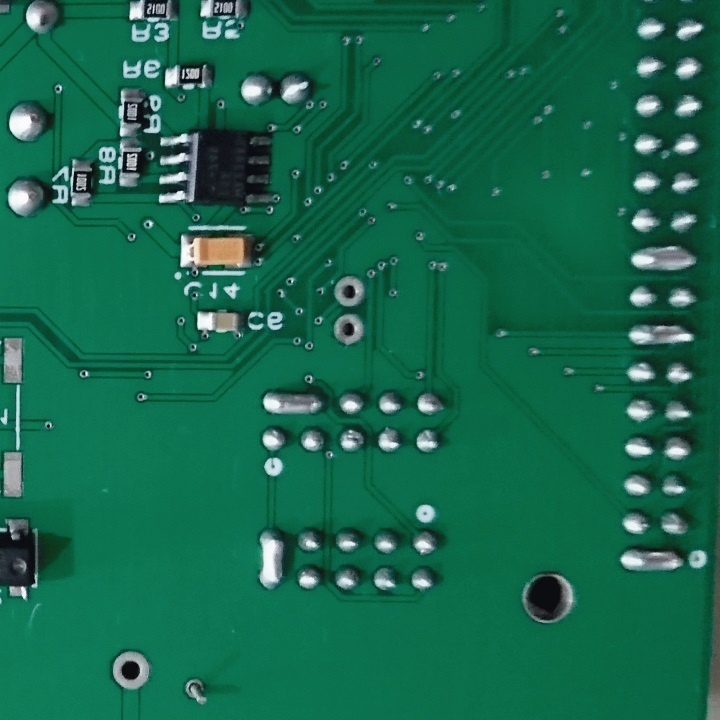F: (110, 647, 151, 692), (330, 312, 366, 352), (331, 271, 367, 309), (181, 675, 211, 709)
P: (629, 240, 699, 275), (626, 318, 697, 351), (616, 544, 684, 578), (255, 523, 287, 595), (259, 386, 326, 418)
